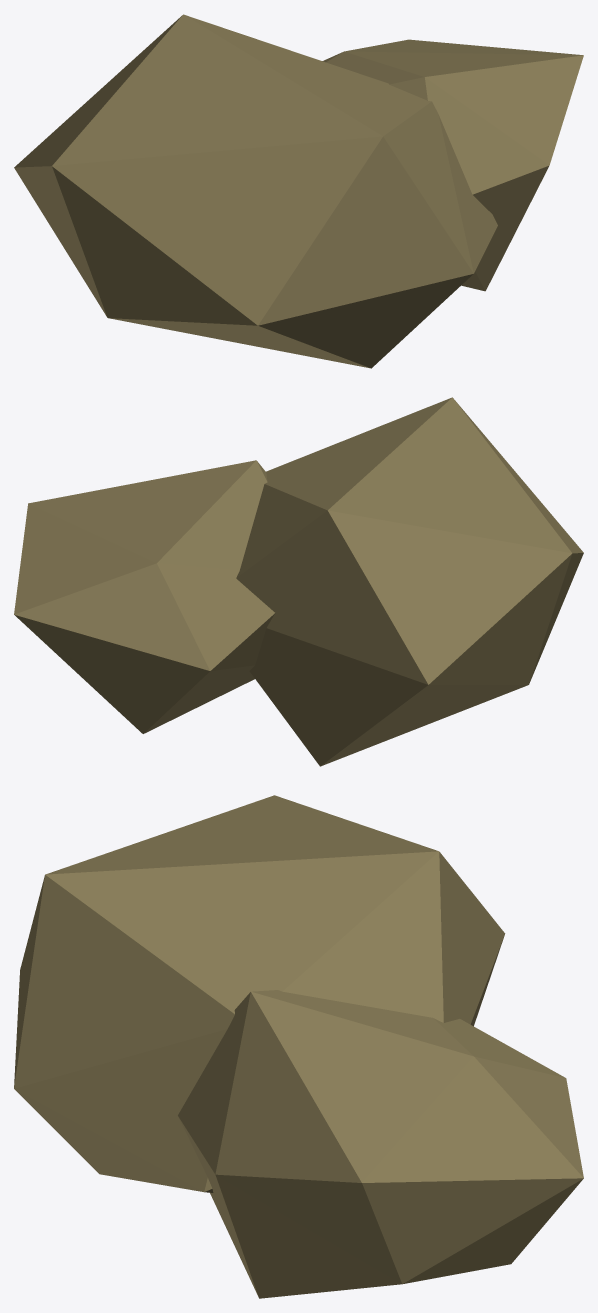
The model's file is shrub.glb.
3 views of the same model, one above another, from view 1: azimuth 30°, elevation 25°; view 2: azimuth 150°, elevation 25°; view 3: azimuth 270°, elevation 25° (orthographic). The views are drawn at different scales.
Parts seen in each view (by area): view 1: ShrubB; view 2: ShrubB; view 3: ShrubB.
Boxes of the visible parts, x1=… form: ShrubB: x1=14, y1=14, x2=583, y2=368; ShrubB: x1=14, y1=397, x2=583, y2=766; ShrubB: x1=14, y1=795, x2=583, y2=1298.
Bounding box in the file's own units: 0.7706 × 0.3875 × 0.5744.
